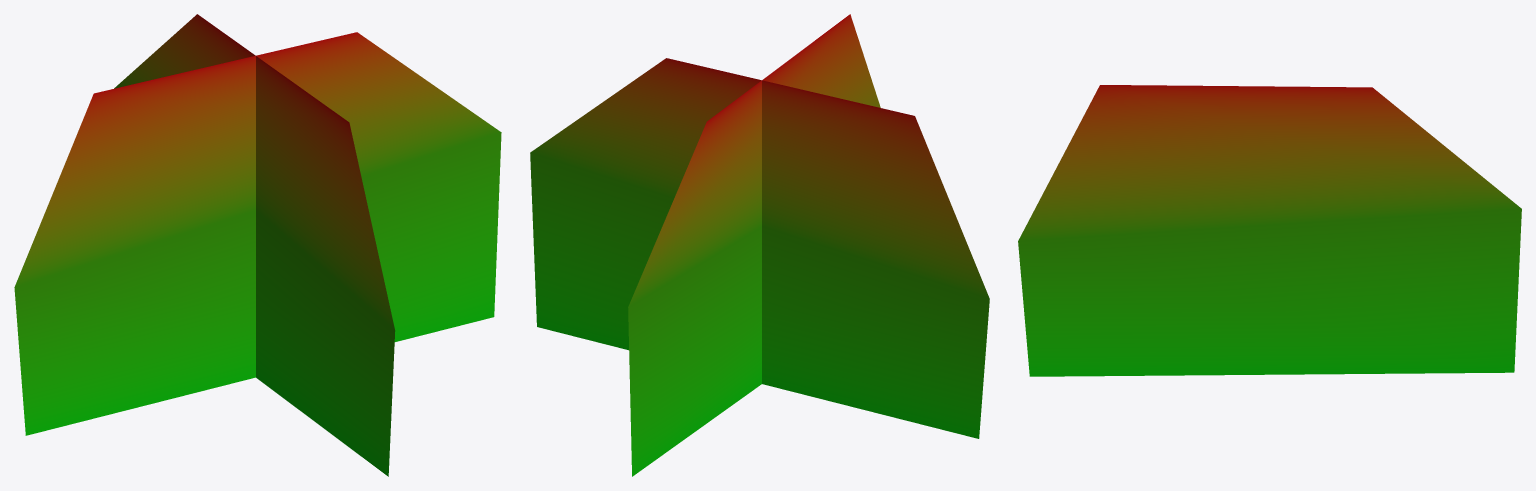
The model's file is Var1_LOD4.fbx.
3 renders of one model, left to right at view 1: azimuth 30°, elevation 25°; view 2: azimuth 150°, elevation 25°; view 3: azimuth 270°, elevation 25°, orthographic. The views are drawn at different scales.
Visible parts, largest first — view 1: _yd1j_Var1_LOD4; view 2: _yd1j_Var1_LOD4; view 3: _yd1j_Var1_LOD4.
Part boxes in pixels (x1,y1,x2,y2): _yd1j_Var1_LOD4: [14, 14, 501, 476]; _yd1j_Var1_LOD4: [530, 14, 989, 476]; _yd1j_Var1_LOD4: [1018, 85, 1521, 376].
Size of the model in its own units: 32.43 by 20.73 by 32.43.
